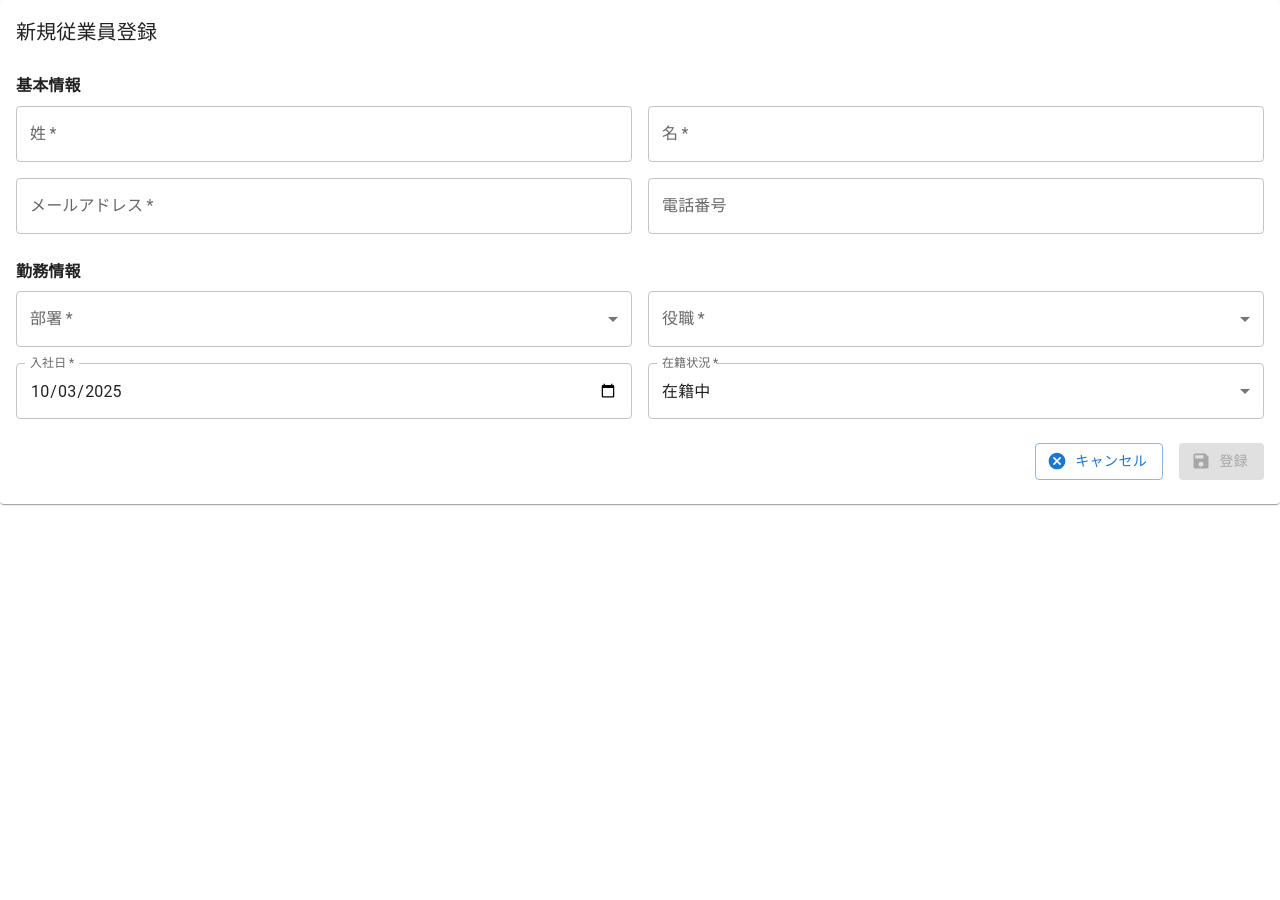
Test case: EmployeeForm › renders department and position select options
The image size is (1280, 900).
expect the text "部署 *" is shown: met, box [30, 307, 73, 330]
expect the text "役職 *" is shown: met, box [662, 307, 705, 330]
Press the mouse on the dropdown next to "部署" at (324, 319), box [16, 291, 632, 347]
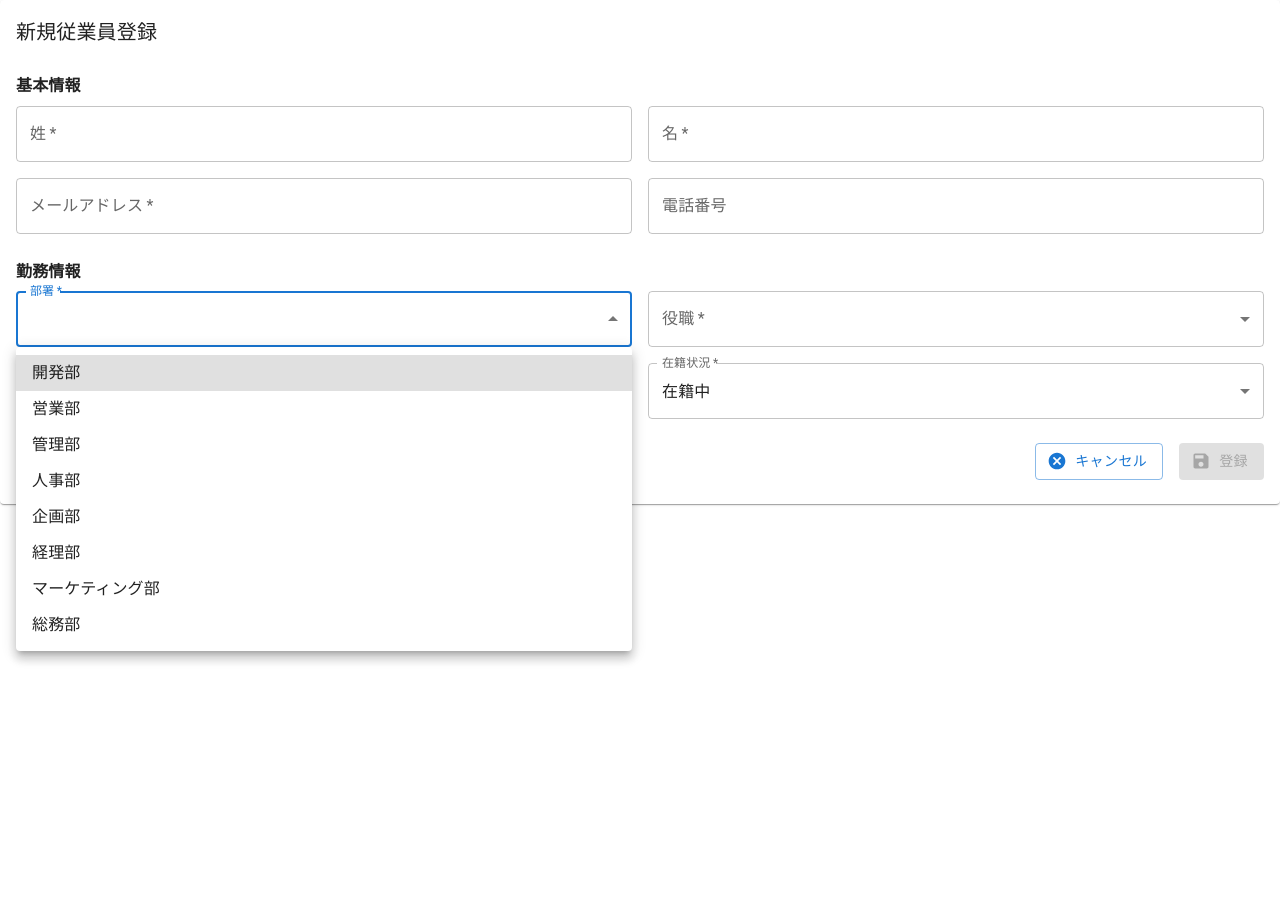
expect the option "開発部" is shown: met, box [16, 355, 632, 391]
expect the option "営業部" is shown: met, box [32, 399, 80, 418]
